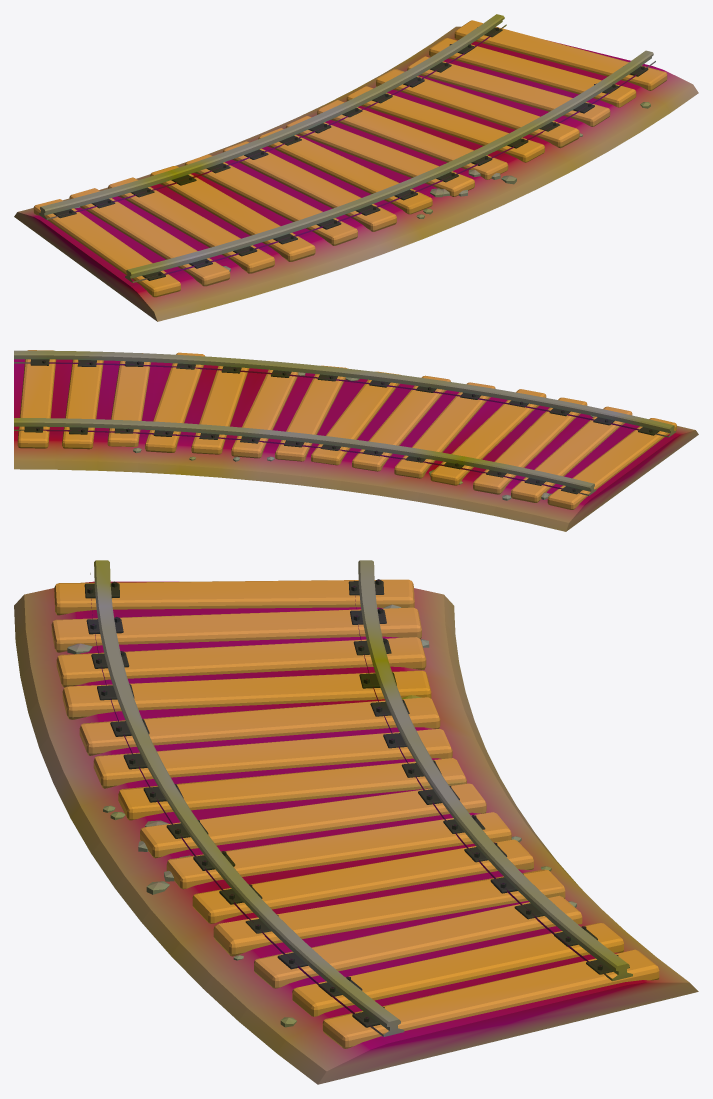
Rendered from Track_Curve_R20_30_B.glb.
The picture shows the model from 3 angles, top to bottom: view 1: azimuth 30°, elevation 25°; view 2: azimuth 150°, elevation 25°; view 3: azimuth 270°, elevation 25°; orthographic projection. The views are drawn at different scales.
Visible parts, largest first — view 1: Track_Curve_R20_30_B; view 2: Track_Curve_R20_30_B; view 3: Track_Curve_R20_30_B.
Part boxes in pixels (x1,y1,x2,y2): Track_Curve_R20_30_B: [14, 14, 698, 321]; Track_Curve_R20_30_B: [14, 350, 698, 531]; Track_Curve_R20_30_B: [14, 560, 698, 1084].
Size of the model in its own units: 11.07 by 0.49 by 6.69.
